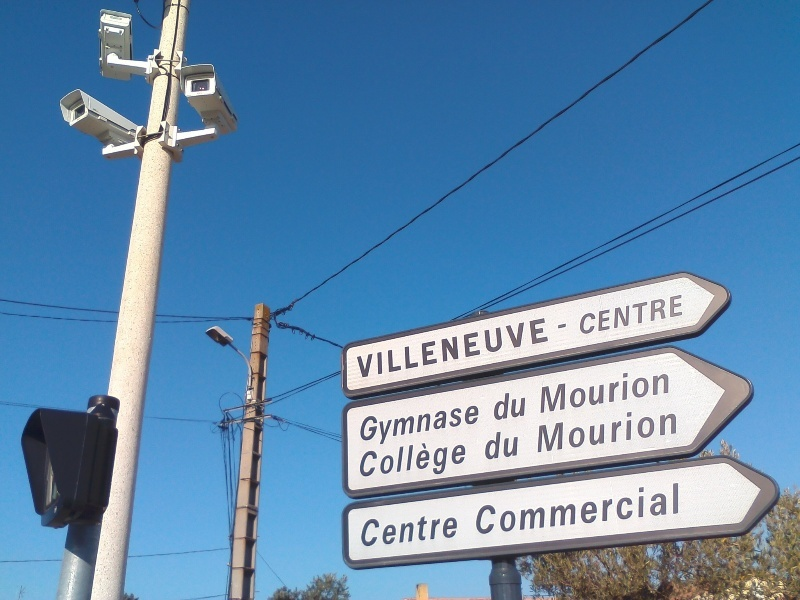text: (369, 317, 384, 379), (385, 317, 400, 379), (401, 317, 416, 379), (417, 317, 432, 379), (433, 317, 448, 379), (449, 317, 464, 379), (465, 317, 480, 379), (481, 317, 496, 379), (497, 317, 512, 379), (513, 317, 528, 379), (529, 317, 544, 379), (354, 317, 368, 379), (481, 482, 496, 538), (497, 482, 512, 538), (513, 482, 528, 538), (529, 482, 544, 538), (545, 482, 560, 538), (561, 482, 576, 538), (577, 482, 592, 538), (593, 482, 608, 538), (609, 482, 624, 538), (625, 482, 640, 538), (641, 482, 656, 538), (657, 482, 672, 538), (545, 403, 560, 457), (561, 403, 576, 457), (577, 403, 592, 457), (593, 403, 608, 457), (609, 403, 624, 457), (625, 403, 640, 457), (641, 403, 656, 457), (657, 403, 672, 457), (369, 398, 384, 449), (385, 398, 400, 449), (401, 398, 416, 449), (417, 398, 432, 449), (433, 398, 448, 449), (449, 398, 464, 449), (465, 398, 480, 449), (545, 365, 560, 415), (561, 365, 576, 415), (577, 365, 592, 415), (593, 365, 608, 415), (609, 365, 624, 415), (625, 365, 640, 415), (641, 365, 656, 415), (657, 365, 672, 415), (369, 434, 384, 484), (385, 434, 400, 484), (401, 434, 416, 484), (417, 434, 432, 484), (433, 434, 448, 484), (449, 434, 464, 484), (593, 293, 608, 337), (609, 293, 624, 337), (625, 293, 640, 337), (641, 293, 656, 337), (657, 293, 672, 337), (513, 387, 529, 424), (369, 510, 384, 549), (385, 510, 400, 549), (401, 510, 416, 549), (417, 510, 432, 549), (433, 510, 448, 549), (579, 293, 592, 337), (673, 293, 686, 337), (673, 482, 683, 538), (497, 387, 512, 424), (497, 429, 512, 463), (358, 434, 368, 484), (535, 403, 544, 457), (673, 403, 682, 457), (359, 398, 368, 449), (449, 510, 459, 549), (486, 429, 496, 463), (474, 482, 480, 538), (513, 429, 521, 463), (545, 317, 549, 379), (362, 510, 368, 549), (490, 387, 496, 424), (465, 434, 469, 484), (541, 365, 544, 415), (561, 321, 572, 333), (555, 321, 560, 333), (481, 398, 482, 449), (673, 365, 674, 415)
